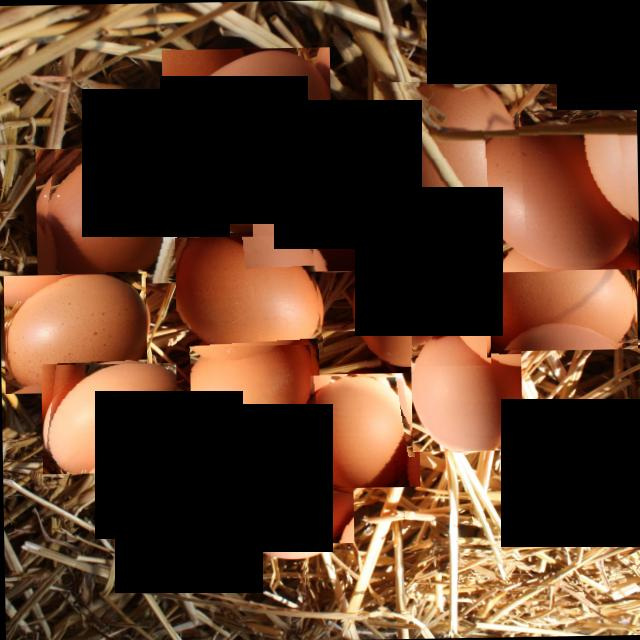eggs: (162, 46, 332, 234), (373, 78, 526, 236), (490, 128, 639, 272), (251, 149, 413, 272), (36, 146, 178, 284), (174, 235, 324, 362), (352, 236, 491, 367), (3, 273, 147, 393), (483, 246, 638, 352), (41, 362, 178, 473), (190, 344, 320, 455), (410, 326, 522, 452), (310, 372, 420, 488), (150, 408, 253, 510), (238, 458, 354, 544)
